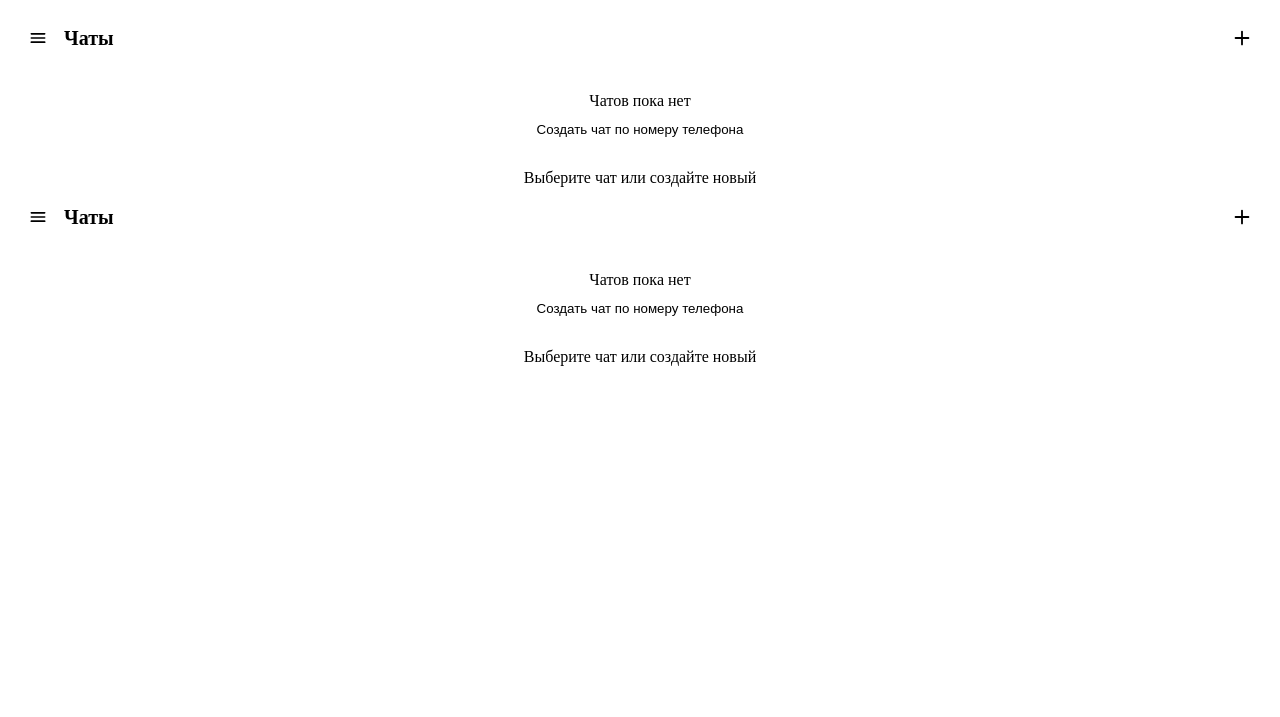
it: несколько вкладок › выход в одной вкладке выходит и в другой
The image size is (1280, 717).
Click the 1st button named "Меню" at (38, 38), box [20, 20, 56, 56]
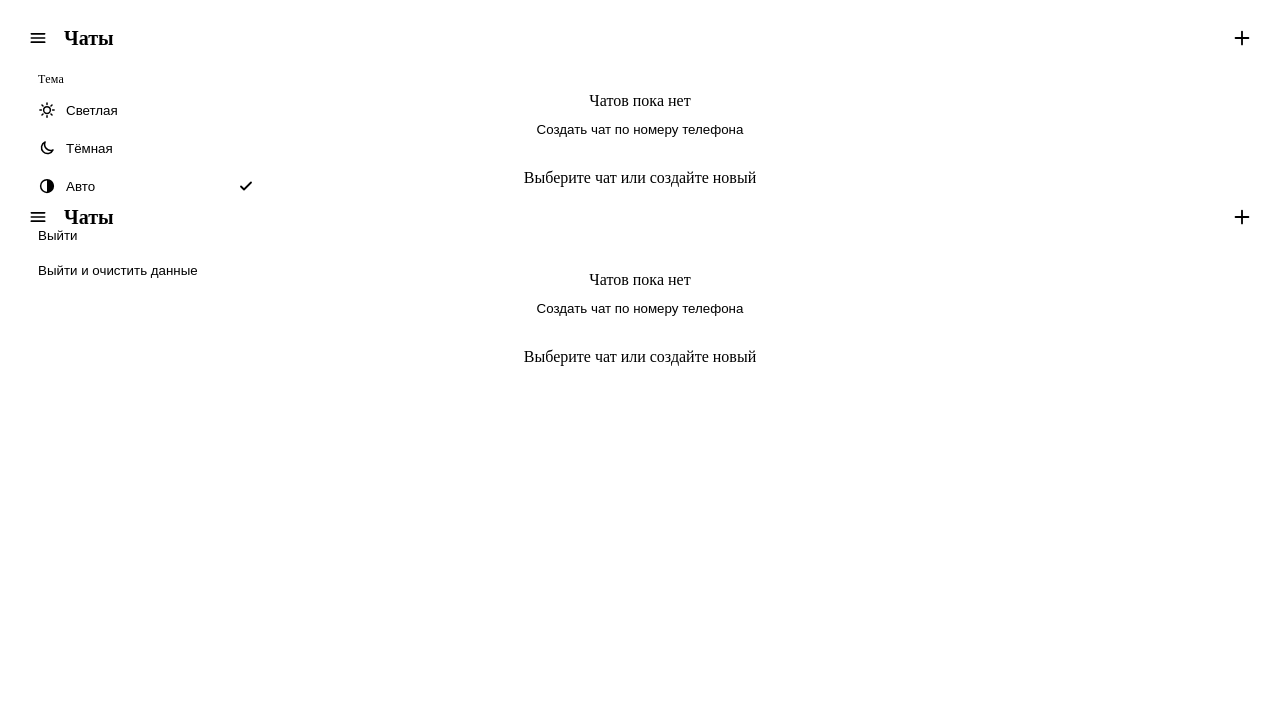
Click the menu item "Выйти" at (146, 236), box [26, 218, 266, 253]
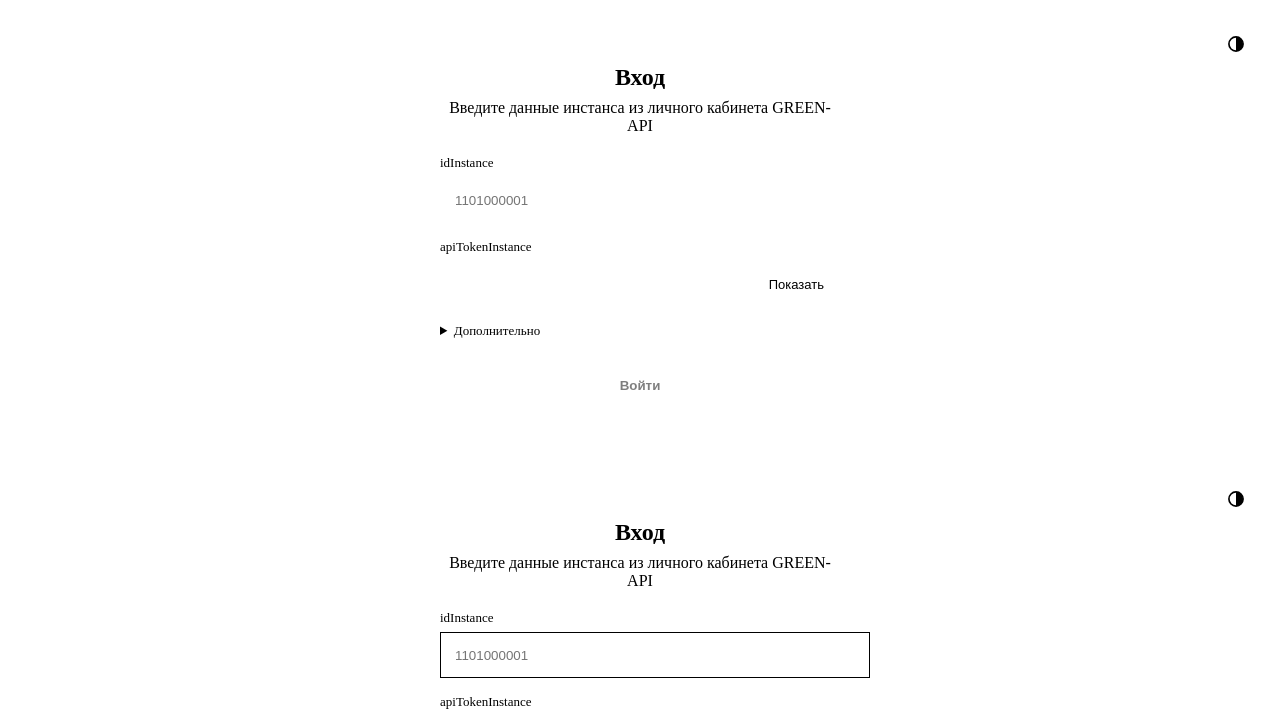
Now the number of headings "Вход" is 2, box [615, 64, 665, 90]; [615, 519, 665, 545]
